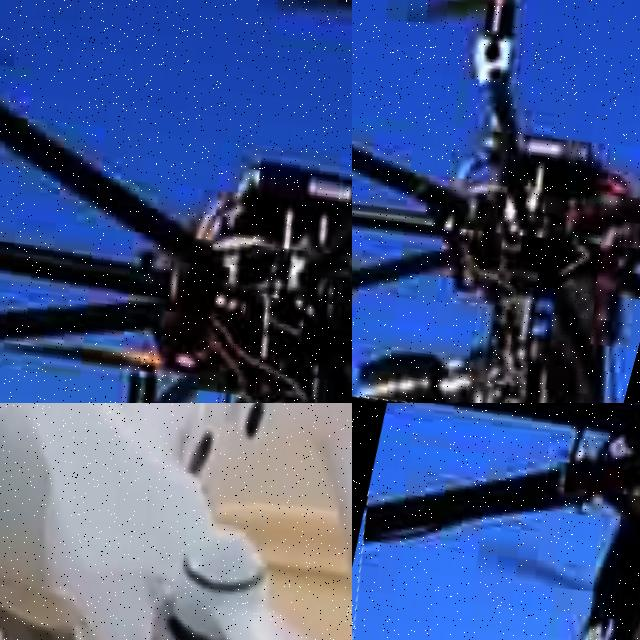drone: (0, 0, 352, 403), (352, 0, 640, 403), (0, 403, 352, 640), (352, 403, 640, 640)
